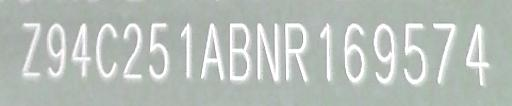letter: (278, 20, 312, 88), (460, 20, 494, 88), (398, 21, 428, 87), (12, 19, 44, 78), (252, 20, 280, 86), (88, 21, 118, 81), (144, 21, 172, 85), (224, 22, 252, 84), (368, 23, 396, 85), (430, 20, 456, 84), (340, 21, 366, 85), (120, 22, 146, 84), (200, 23, 226, 85), (41, 21, 69, 78), (172, 22, 196, 79), (314, 21, 336, 83), (68, 22, 90, 78)
